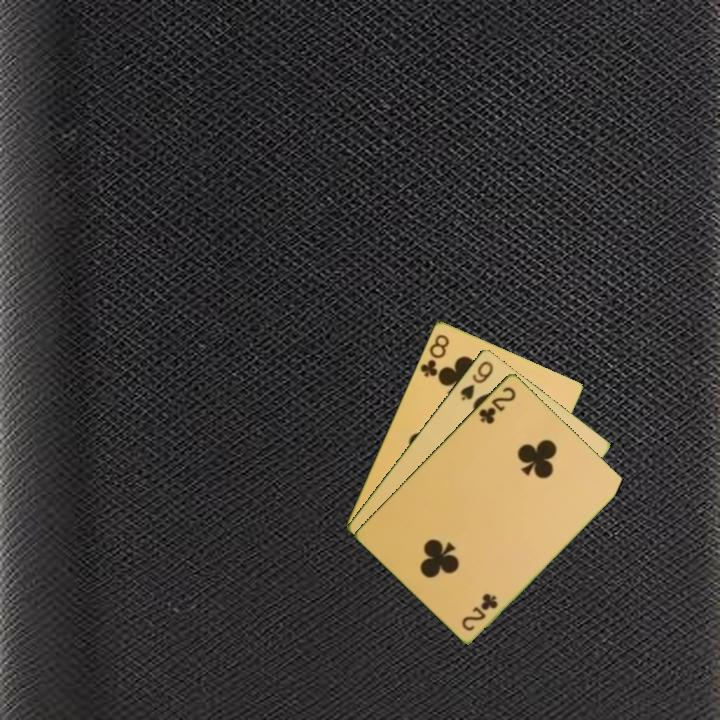2c: (475, 383, 519, 427), (458, 590, 501, 634)
8c: (416, 330, 452, 380)
9s: (456, 357, 496, 403)
